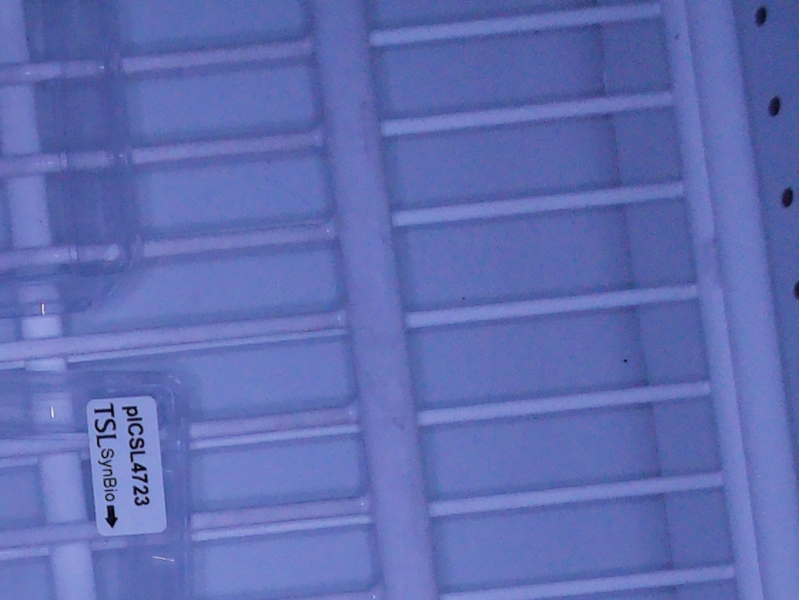plate: (1, 1, 145, 322), (1, 365, 194, 600)
